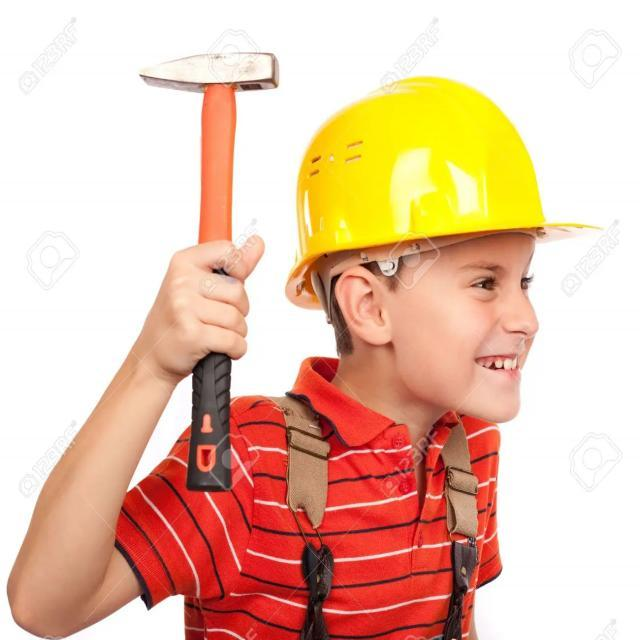hammer: (133, 42, 284, 484)
